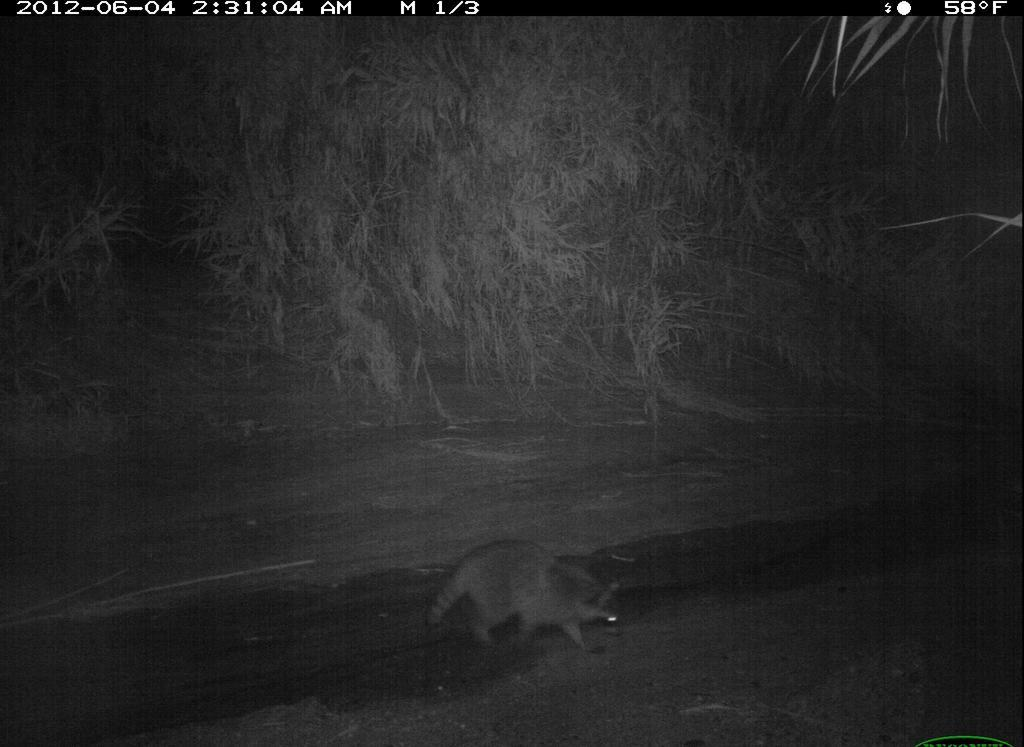raccoon: (417, 527, 638, 665)
